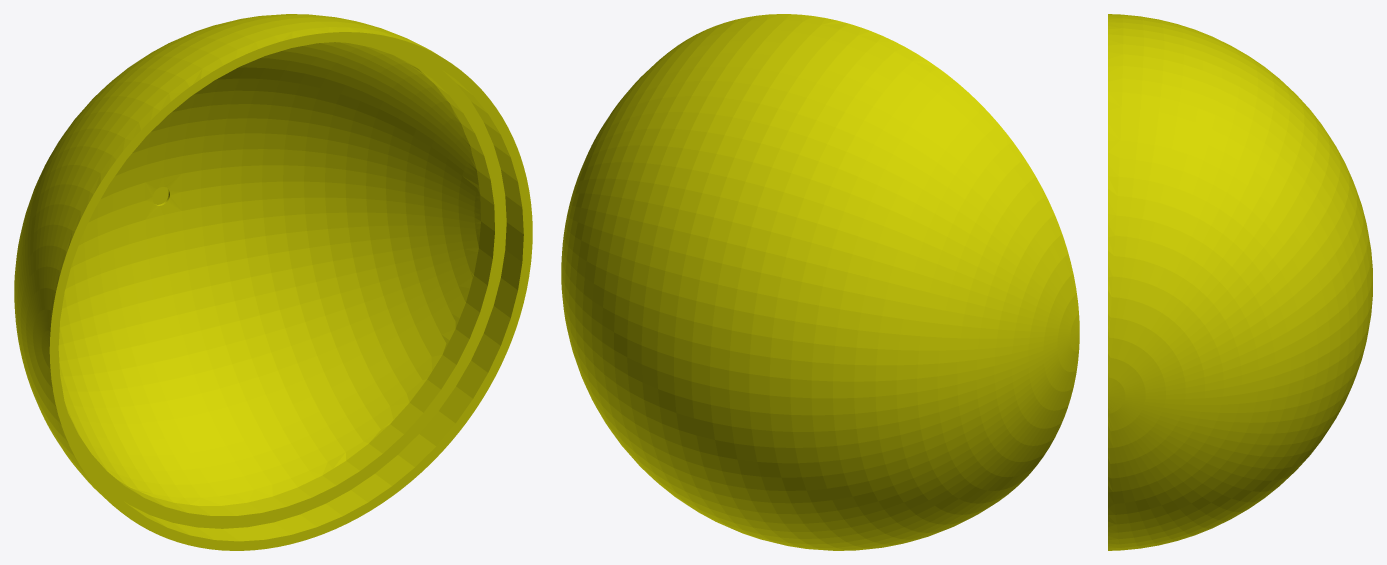
Rendered from wb-shell-freehemi.dae.
3 renders of one model, left to right at view 1: azimuth 30°, elevation 25°; view 2: azimuth 150°, elevation 25°; view 3: azimuth 270°, elevation 25°, orthographic. The views are drawn at different scales.
Parts seen in each view (by area): view 1: wb-shell-freehemi; view 2: wb-shell-freehemi; view 3: wb-shell-freehemi.
Part boxes in pixels (box(x1,y1,x2,y2)): wb-shell-freehemi: box(14, 14, 532, 550); wb-shell-freehemi: box(561, 14, 1079, 550); wb-shell-freehemi: box(1108, 14, 1372, 550).
Bounding box in the file's own units: 0.0817 × 0.0403 × 0.0817.
